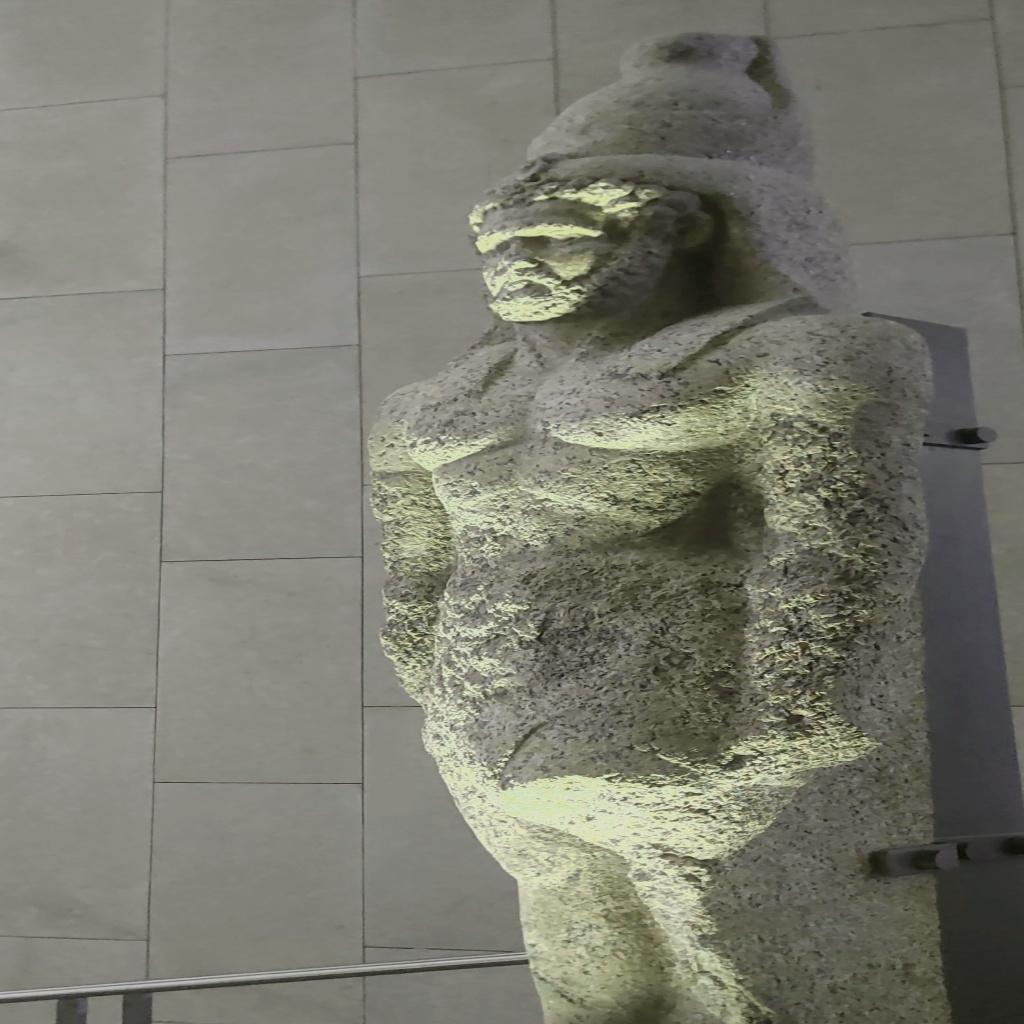Statue of Carcala: (364, 30, 954, 1022)
